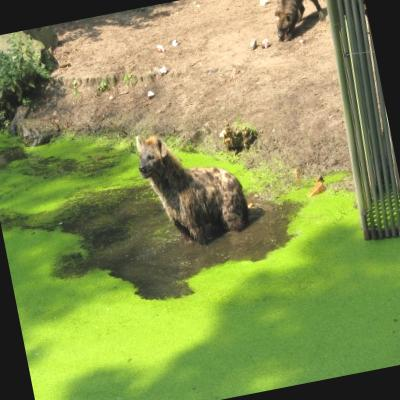hyenas: (124, 94, 280, 248)
